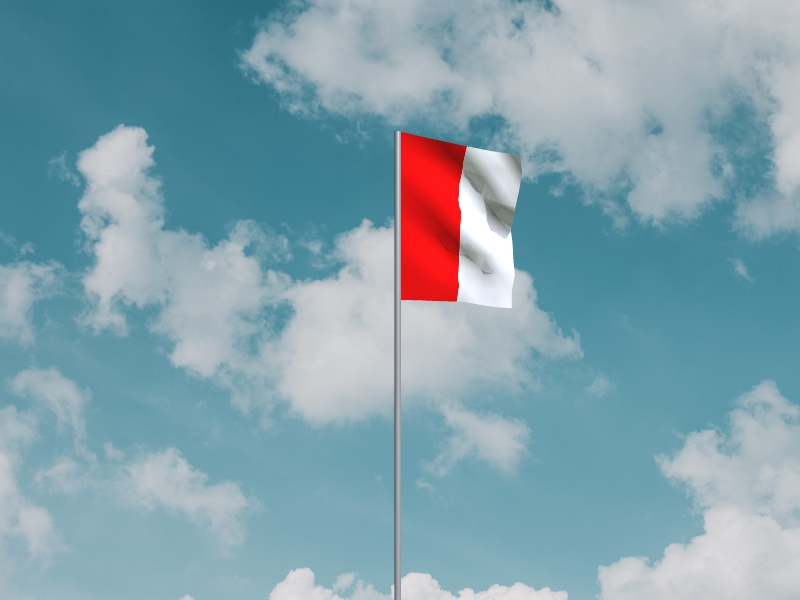id: (402, 133, 524, 310)
